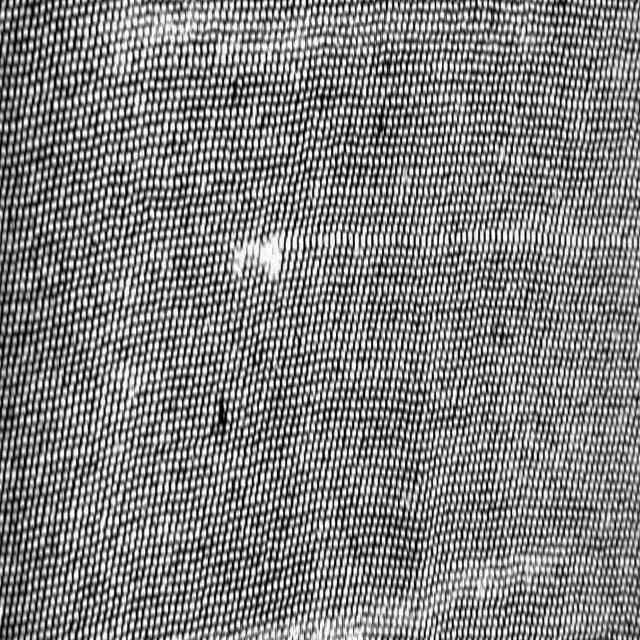Foreign_yarn: (182, 548, 610, 640), (194, 214, 637, 283)
